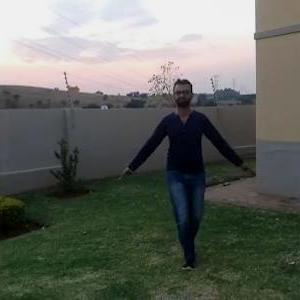land: (134, 85, 237, 264)
